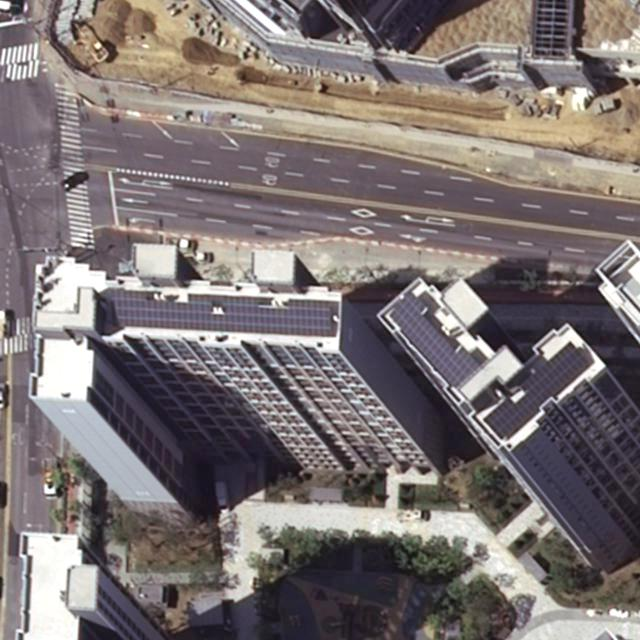solar: (97, 290, 333, 340), (481, 341, 591, 442), (389, 292, 481, 387)
